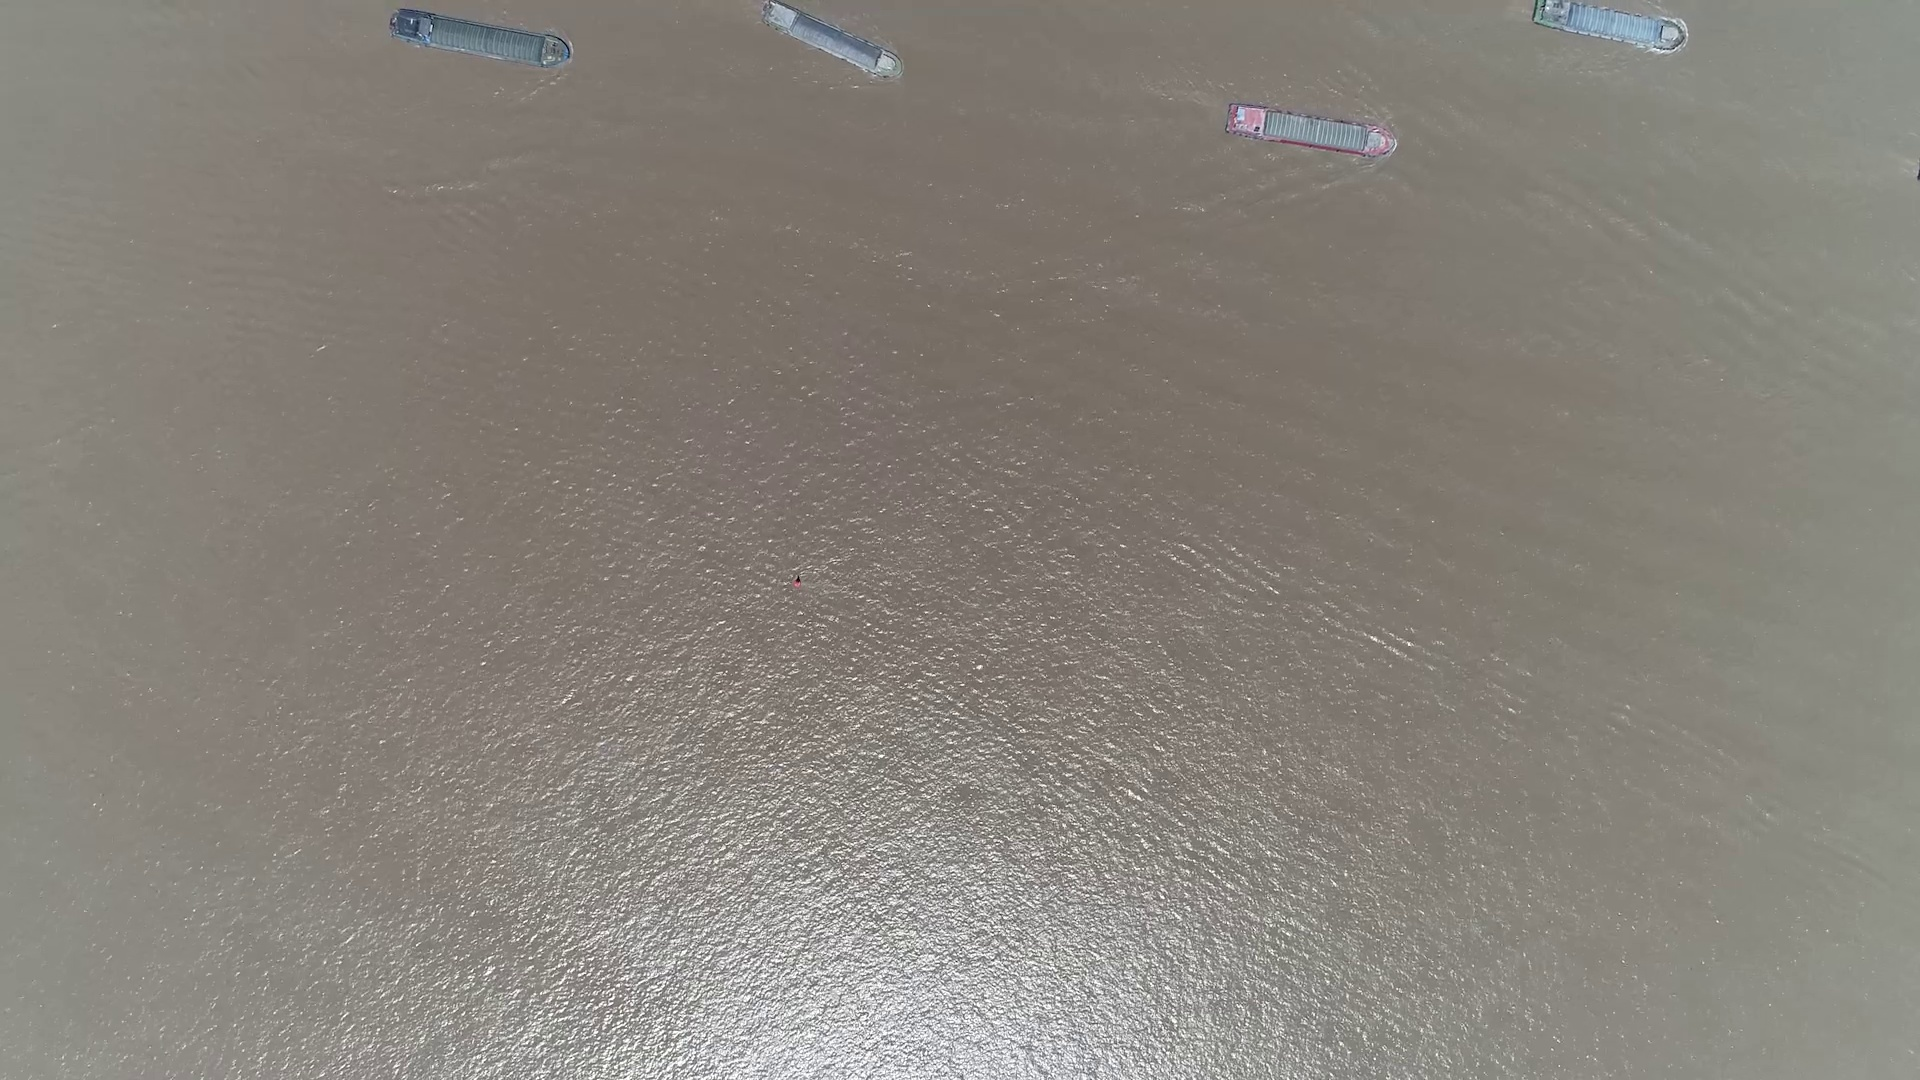ship: (390, 8, 572, 69), (760, 3, 899, 76), (1224, 104, 1398, 158), (1532, 0, 1688, 51)
